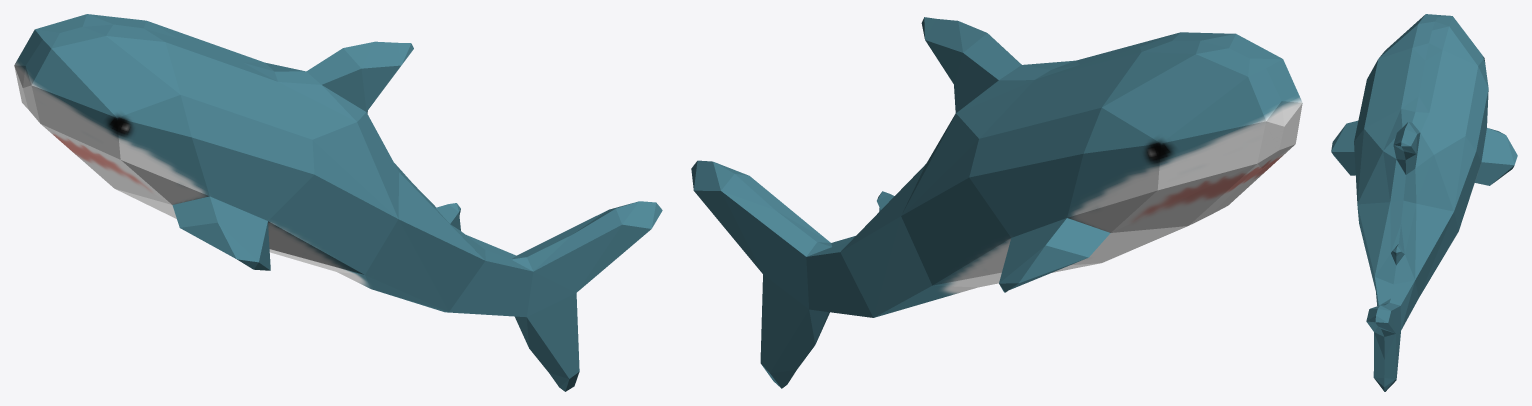
The model's file is blahaj.gltf.
3 views of the same model, side by side, from view 1: azimuth 30°, elevation 25°; view 2: azimuth 150°, elevation 25°; view 3: azimuth 270°, elevation 25° (orthographic). The views are drawn at different scales.
Parts seen in each view (by area): view 1: Object_2; view 2: Object_2; view 3: Object_2.
Boxes of the visible parts, left/top/right/bottom form: Object_2: left=14, top=14, right=662, bottom=391; Object_2: left=691, top=17, right=1302, bottom=388; Object_2: left=1331, top=14, right=1517, bottom=391.
Bounding box in the file's own units: 3.26 × 2.34 × 1.59.
Materials: 1 (1 with a texture image).
